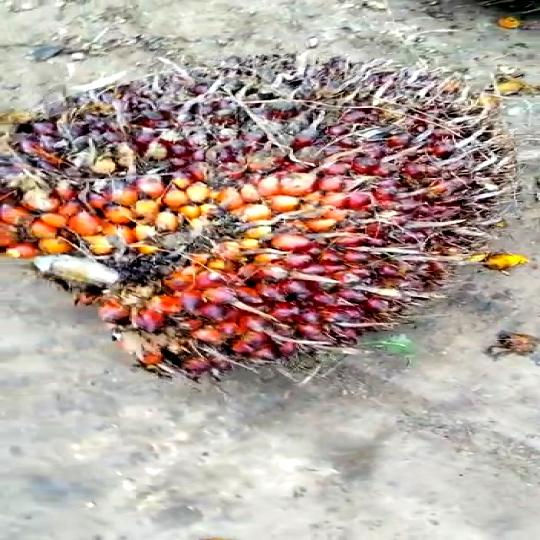masak: (0, 36, 540, 391)
